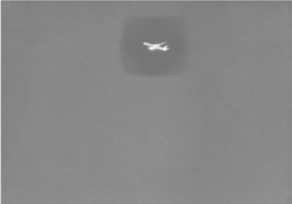Target: (144, 43, 170, 52)
